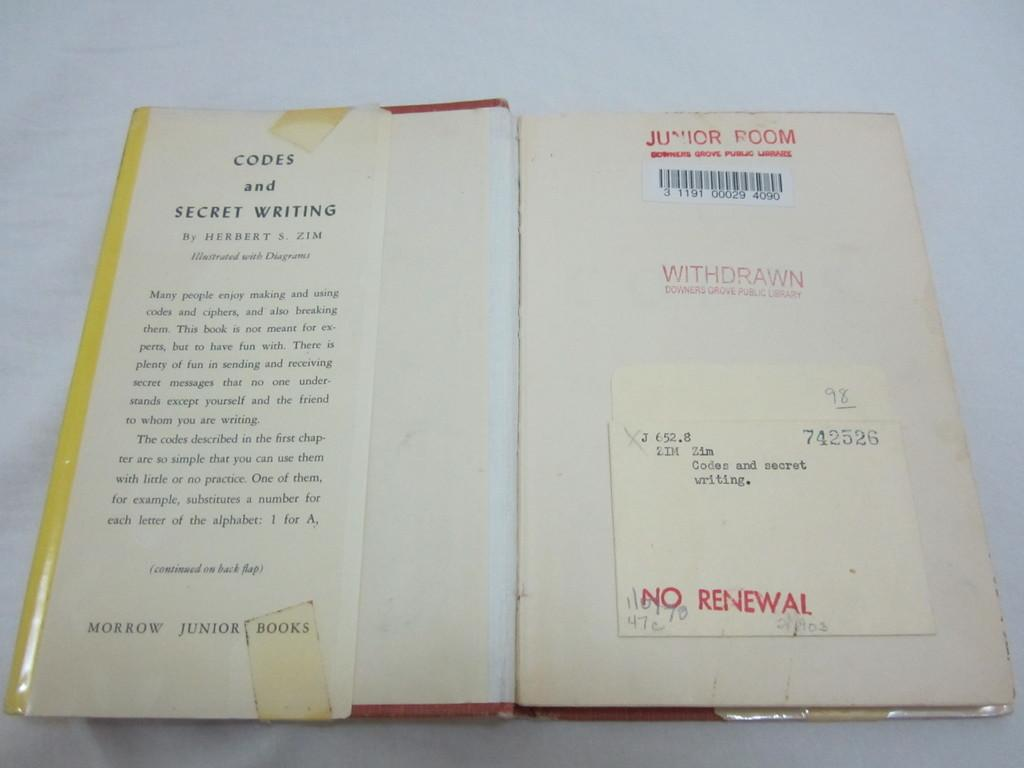book: (42, 79, 1024, 731)
